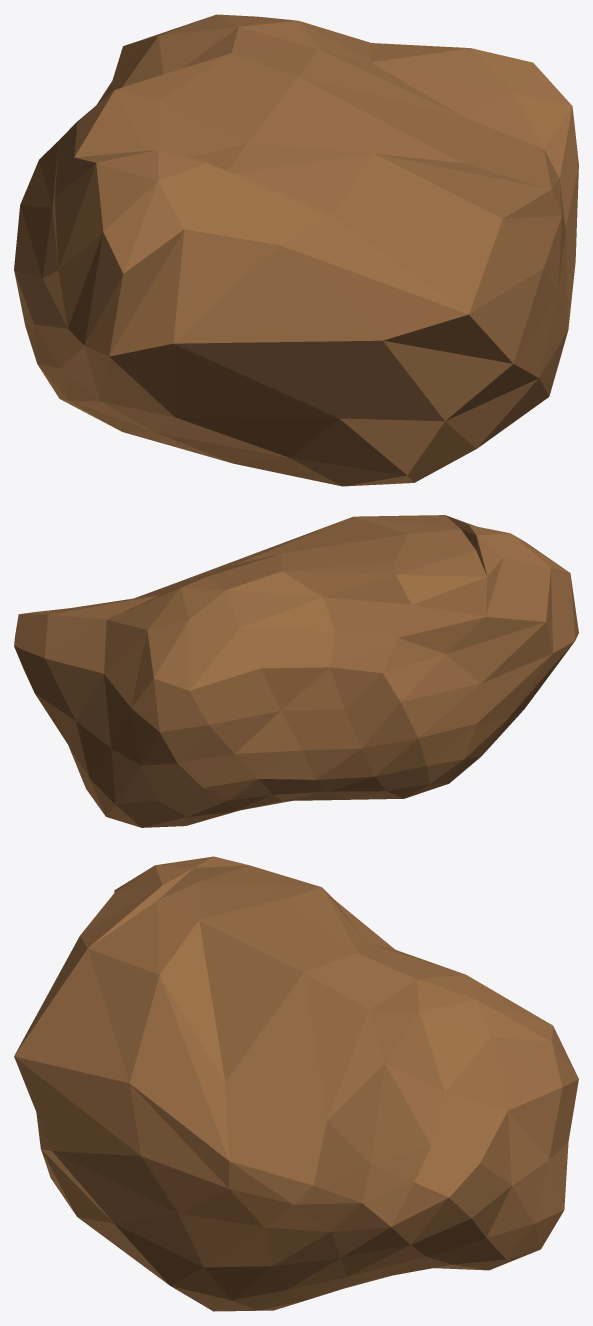
The model's file is stone03.fbx.
The picture shows the model from 3 angles, top to bottom: view 1: azimuth 30°, elevation 25°; view 2: azimuth 150°, elevation 25°; view 3: azimuth 270°, elevation 25°; orthographic projection. The views are drawn at different scales.
Visible parts, largest first — view 1: Icosphere; view 2: Icosphere; view 3: Icosphere.
Boxes of the visible parts, bbox=[...] form: Icosphere: bbox=[14, 14, 578, 486]; Icosphere: bbox=[14, 515, 578, 827]; Icosphere: bbox=[14, 856, 578, 1311].
Bounding box in the file's own units: 2.38 × 1.29 × 2.25.
